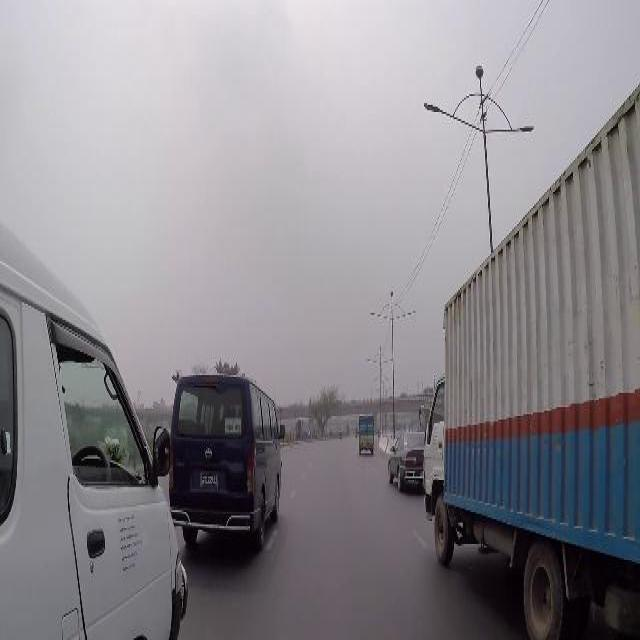car: (386, 425, 424, 492)
pickup: (358, 413, 374, 455)
truck: (422, 71, 638, 629)
van: (1, 214, 187, 639), (168, 366, 286, 551)
